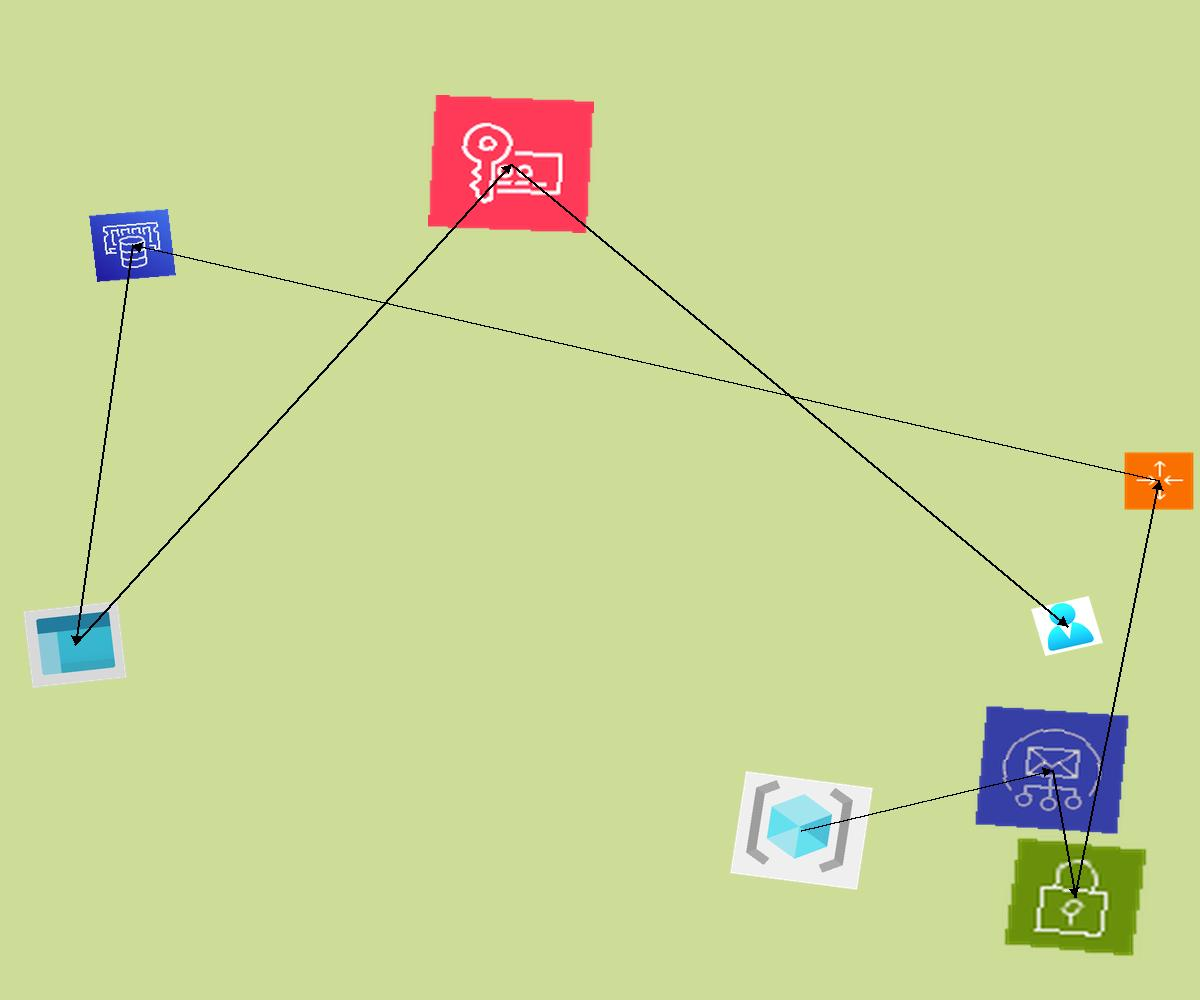AWS-ElastiCache: (89, 209, 176, 282)
AWS-Key-Management-Service: (428, 95, 594, 233)
AWS-Public-subnet: (1002, 836, 1149, 958)
AWS-Scaling-group: (1123, 451, 1195, 511)
AWS-Simple-Email-Service: (974, 705, 1130, 835)
Azure_management-portal: (23, 601, 127, 688)
Azure_resource_group: (730, 771, 873, 890)
Azure_users: (1031, 596, 1103, 656)
